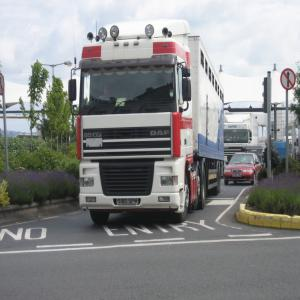Vehicle-registration-plate: (117, 198, 139, 205), (232, 175, 242, 178)
